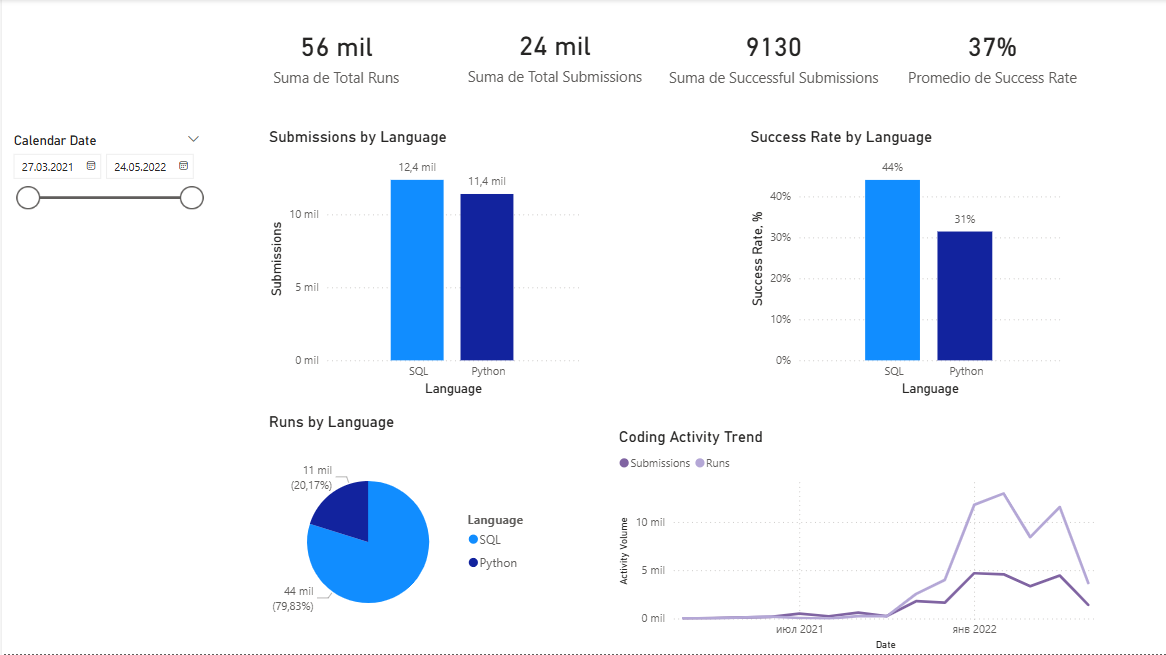

The dashboard page shown, as its layout file describes it:
{"tool":"powerbi","page":{"name":"Learning activity","canvas":[1280,720],"ordinal":2},"visuals":[{"type":"columnChart","title":"Submissions by Language","fields":{"Category":["mart agg_problem_activity.language_name"],"Y":["Sum(mart agg_problem_activity.total_submits)"]},"box":[287.9,141.1,350.6,299.3],"z":0},{"type":"lineChart","title":"Coding Activity Trend","fields":{"Category":["mart dim_calendar.calendar_date.Variación.Jerarquía de fechas.Año","mart dim_calendar.calendar_date.Variación.Jerarquía de fechas.Trimestre","mart dim_calendar.calendar_date.Variación.Jerarquía de fechas.Mes","mart dim_calendar.calendar_date.Variación.Jerarquía de fechas.Día"],"Y":["Sum(mart agg_problem_activity.total_submits)","Sum(mart agg_problem_activity.total_runs)"]},"box":[672.8,470.4,550.2,249.4],"z":1000},{"type":"columnChart","title":"Success Rate by Language","fields":{"Category":["mart agg_problem_activity.language_name"],"Y":["Avg(mart agg_problem_activity.success_rate)"]},"box":[816.7,141.1,350.6,299.3],"z":2000},{"type":"pieChart","title":"Runs by Language","fields":{"Y":["Sum(mart agg_problem_activity.total_runs)"],"Category":["mart agg_problem_activity.language_name"]},"box":[287.9,454.7,307.9,265.1],"z":3000},{"type":"card","fields":{"Values":["Avg(mart agg_problem_activity.success_rate)"]},"box":[967.4,1.4,240.1,120],"z":4000},{"type":"card","fields":{"Values":["Sum(mart agg_problem_activity.successful_submits)"]},"box":[726.9,1.4,240,120],"z":5000},{"type":"card","fields":{"Values":["Sum(mart agg_problem_activity.total_submits)"]},"box":[487.1,0,240.1,120],"z":6000},{"type":"card","fields":{"Values":["Sum(mart agg_problem_activity.total_runs)"]},"box":[247,1.4,240.1,120],"z":7000},{"type":"slicer","fields":{"Values":["mart dim_calendar.calendar_date"]},"box":[0,141.3,229.2,174.3],"z":8000}]}

Visuals, with their boxes in screenshot pixels (x1, y1, x2, y2), scaled from the page's 1280x720 canvas onto the 1166x655 screenshot:
"Submissions by Language" columnChart: bbox=(262, 128, 582, 401)
"Coding Activity Trend" lineChart: bbox=(613, 428, 1114, 654)
"Success Rate by Language" columnChart: bbox=(744, 128, 1063, 401)
"Runs by Language" pieChart: bbox=(262, 414, 543, 654)
card - Avg(mart agg_problem_activity.success_rate): bbox=(881, 1, 1100, 110)
card - Sum(mart agg_problem_activity.successful_submits): bbox=(662, 1, 881, 110)
card - Sum(mart agg_problem_activity.total_submits): bbox=(444, 0, 662, 109)
card - Sum(mart agg_problem_activity.total_runs): bbox=(225, 1, 444, 110)
slicer - mart dim_calendar.calendar_date: bbox=(0, 129, 209, 287)
